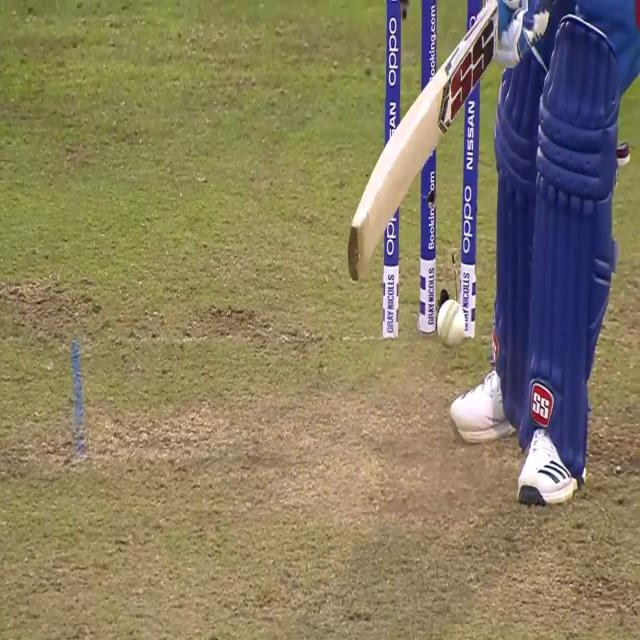ball: (438, 297, 465, 347)
